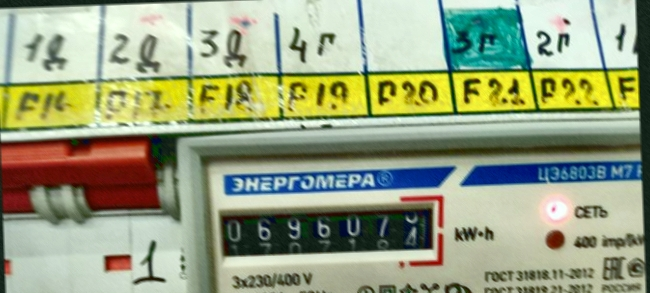0: (224, 217, 242, 241), (344, 210, 360, 236)
4: (402, 223, 419, 248)
6: (254, 215, 272, 240), (314, 212, 332, 237)
7: (374, 211, 390, 238)
9: (284, 214, 301, 239)
screen: (205, 187, 449, 270)
